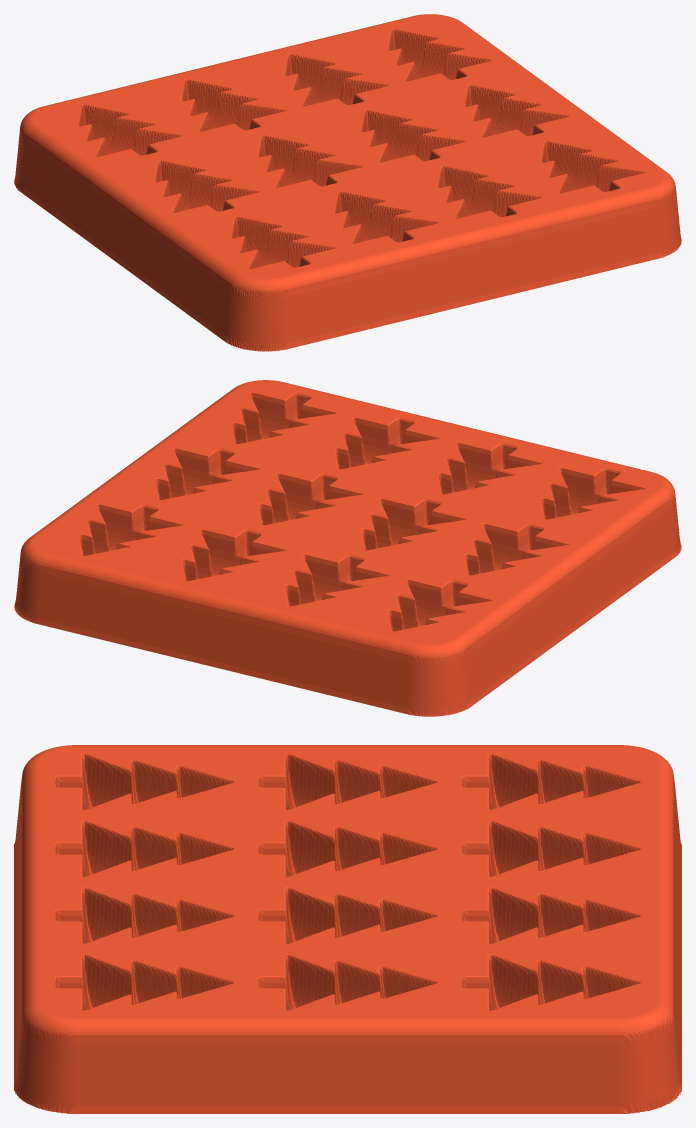
File: mold.glb
The picture shows the model from 3 angles, top to bottom: view 1: azimuth 30°, elevation 25°; view 2: azimuth 150°, elevation 25°; view 3: azimuth 270°, elevation 25°; orthographic projection. The views are drawn at different scales.
Visible parts, largest first — view 1: geometry_0; view 2: geometry_0; view 3: geometry_0.
Boxes of the visible parts, x1,y1,x2,y2 form: geometry_0: [14, 14, 681, 351]; geometry_0: [14, 380, 681, 716]; geometry_0: [14, 745, 681, 1113].
Bounding box in the file's own units: 0.0997 × 0.0136 × 0.0963.
